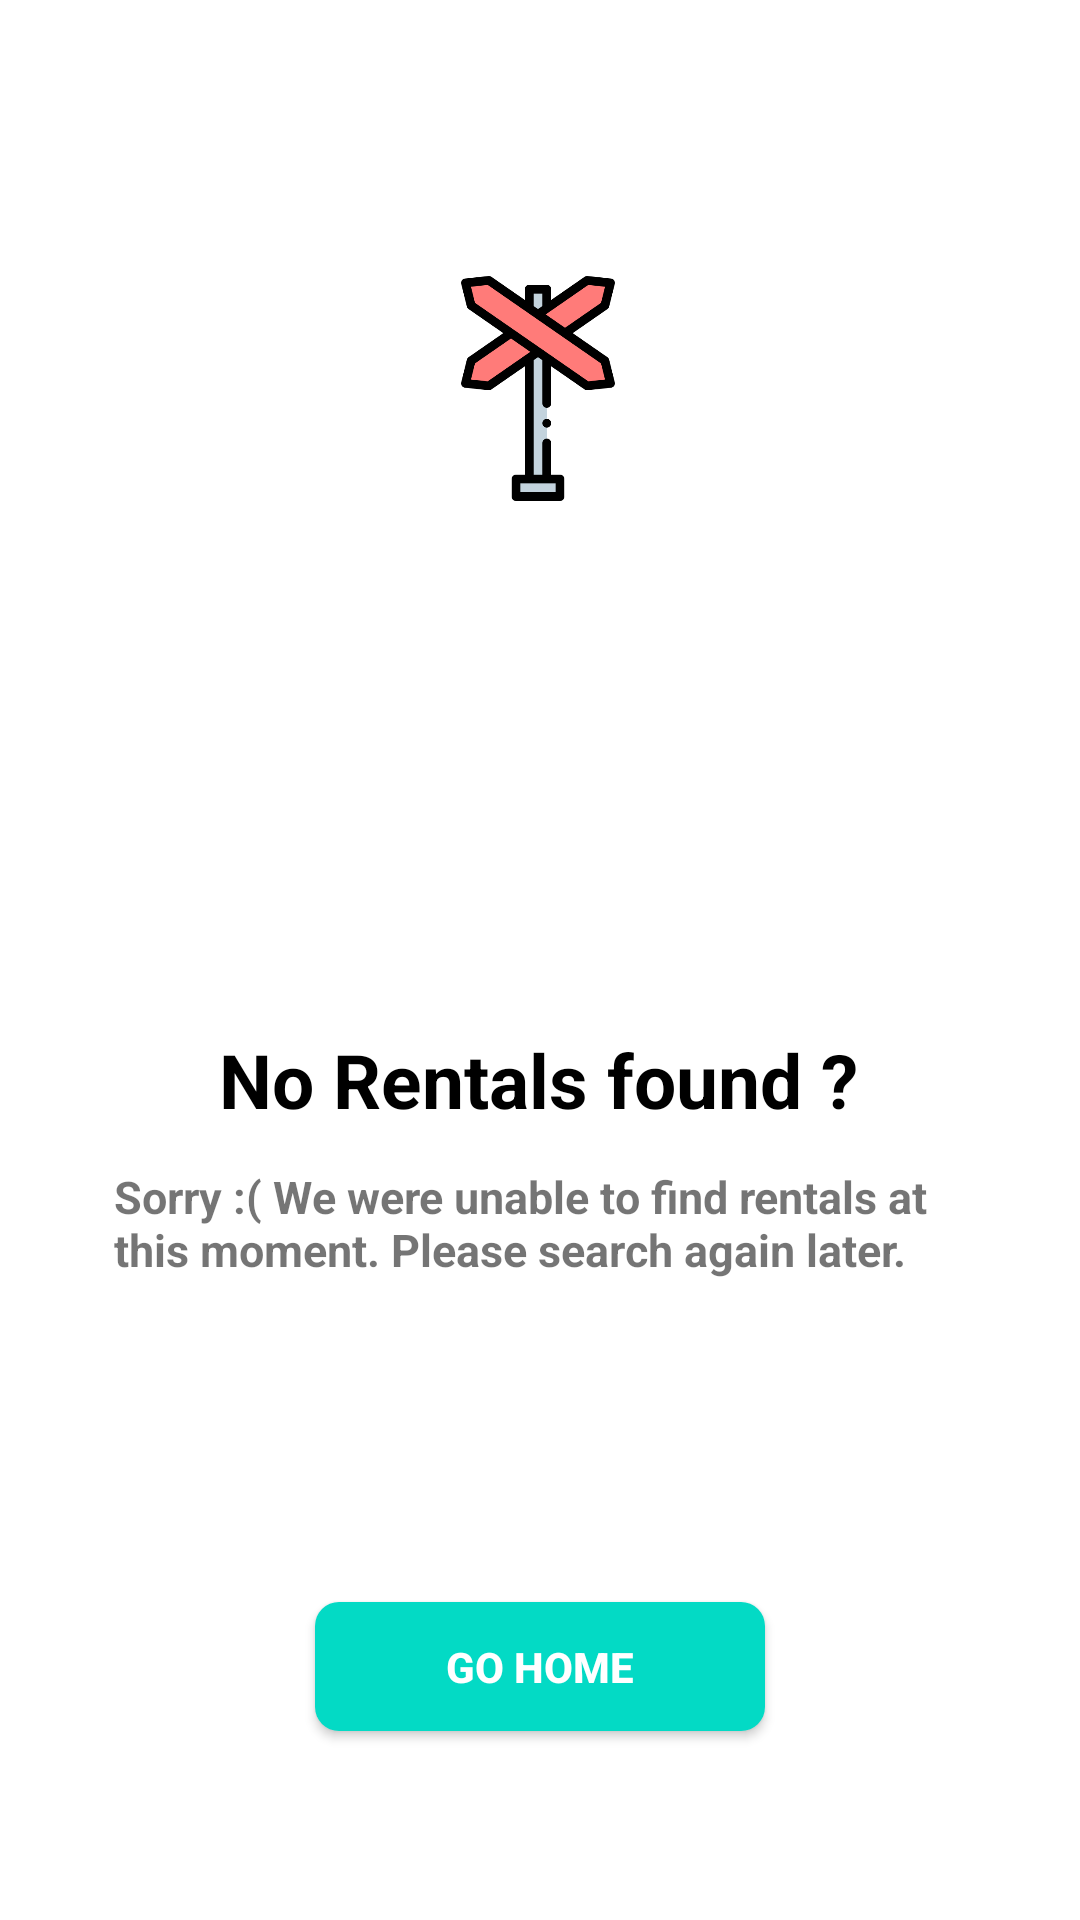

Where to tap for icons on this 1080×1920 app screen, as (x=x, y=y):
xicon: (x=538, y=388)
